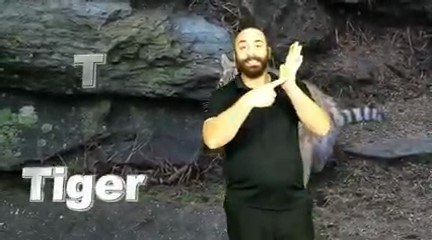T: (249, 40, 305, 108)
